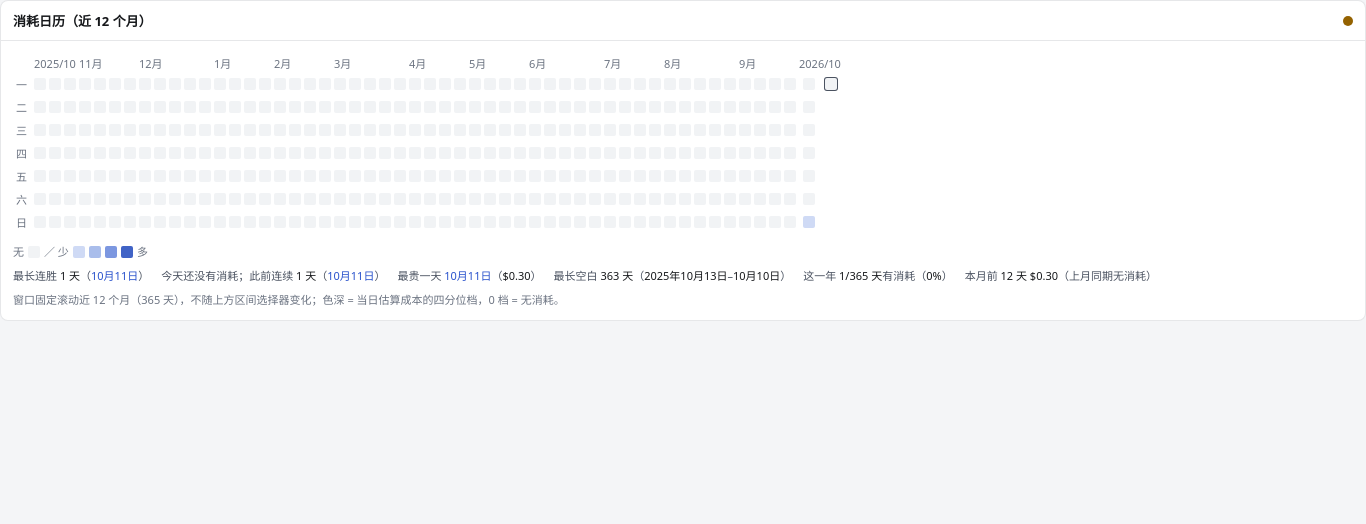
Test: UsageCalendarPanel · 一日回望（Round V2） › 部分会话定价未知：日摘要带可见提示，title 与徽章也写明（Issue #195）
Click the button named "2026年10月11日 · 估算成本 $0.30 · 200,000 tok · 1 个会话 · cal · 部分会话未".
click(809, 222)  # box [803, 216, 815, 228]
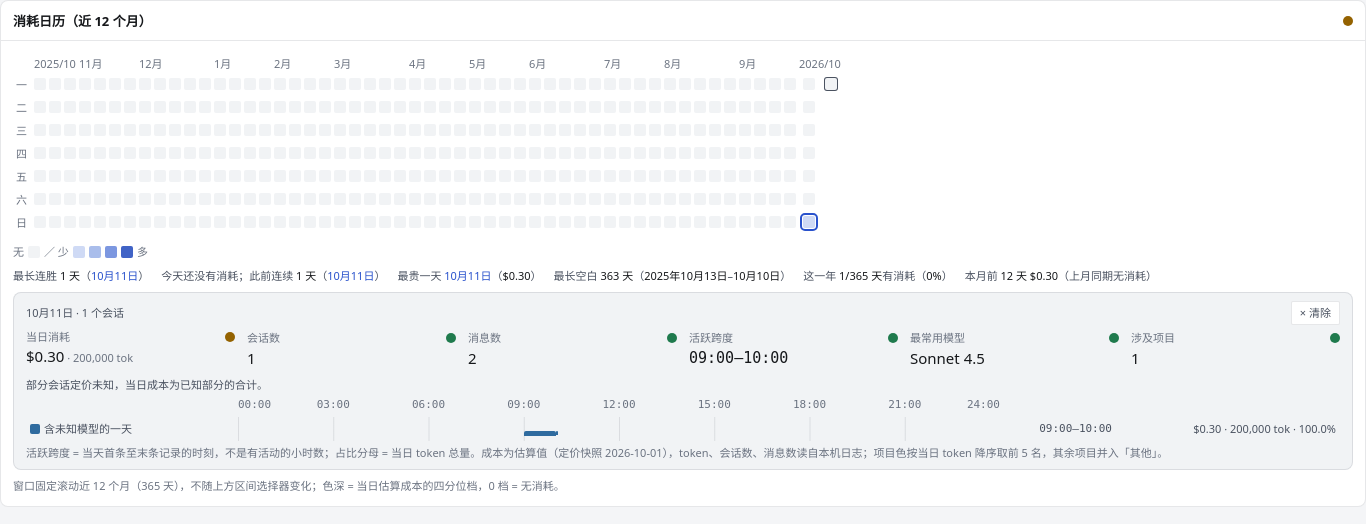
Check: the text "部分会话定价未知，当日成本为已知部分的合计。" is shown, box [26, 377, 268, 392]
Check: the element named "数据来源：按定价快照估算，成本按定价快照 2026-10-01；部分会话未知价" is shown, box [225, 332, 235, 342]
